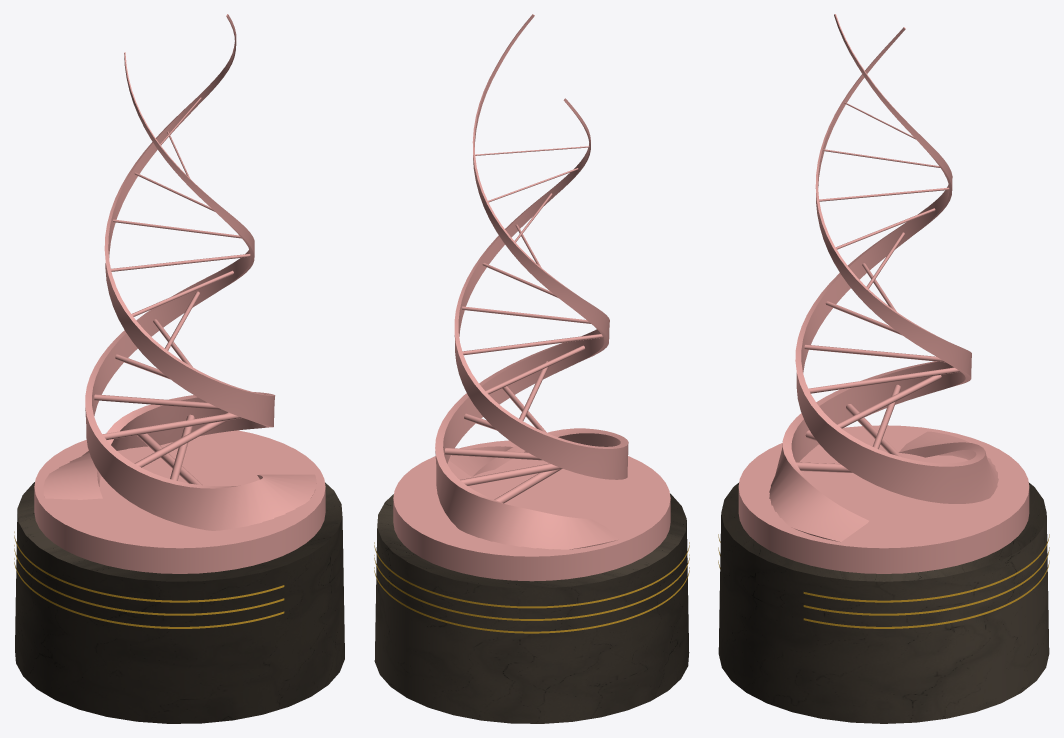
Rendered from medicine.glb.
3 renders of one model, left to right at view 1: azimuth 30°, elevation 25°; view 2: azimuth 150°, elevation 25°; view 3: azimuth 270°, elevation 25°, orthographic. The views are drawn at different scales.
Visible parts, largest first — view 1: marble_column, gold_cap, strand_a, strand_b, rung_04, rung_05, gold_band_2, gold_band_3, gold_band_1, rung_03, rung_10, rung_01; view 2: marble_column, gold_cap, strand_b, strand_a, gold_band_1, gold_band_3, gold_band_2, rung_02, rung_03, rung_08, rung_07, rung_01 (+1 smaller); view 3: marble_column, gold_cap, strand_b, strand_a, rung_06, rung_07, rung_05, gold_band_3, gold_band_2, gold_band_1.
Part boxes in pixels (x1,y1,x2,y2): marble_column: (15, 482, 344, 723); gold_cap: (34, 430, 325, 573); strand_a: (85, 52, 316, 530); strand_b: (43, 14, 275, 499); rung_04: (102, 413, 241, 439); rung_05: (94, 394, 221, 409); gold_band_2: (14, 545, 284, 615); gold_band_3: (14, 531, 284, 602); gold_band_1: (14, 558, 284, 628); rung_03: (134, 412, 229, 467); rung_10: (111, 253, 250, 271); rung_01: (137, 433, 202, 485); marble_column: (374, 493, 689, 723); gold_cap: (393, 440, 670, 581); strand_b: (435, 14, 618, 549); strand_a: (449, 98, 628, 479); gold_band_1: (374, 567, 689, 633); gold_band_3: (374, 542, 689, 608); gold_band_2: (374, 554, 689, 620); rung_02: (460, 463, 562, 485); rung_03: (445, 448, 542, 460); rung_08: (462, 334, 603, 355); rung_07: (485, 345, 584, 394); rung_01: (494, 469, 561, 503); marble_column: (718, 482, 1049, 723); gold_cap: (738, 425, 1029, 573); strand_b: (795, 14, 998, 503); strand_a: (769, 27, 971, 541); rung_06: (808, 367, 960, 393); rung_07: (804, 344, 945, 362); rung_05: (837, 375, 941, 428); gold_band_3: (718, 534, 1049, 602); gold_band_2: (718, 547, 1049, 615); gold_band_1: (718, 560, 1049, 628).
Size of what is drawn, in the model's own units: 0.4543 by 0.9854 by 0.4543.
3 materials, 1 textured.
